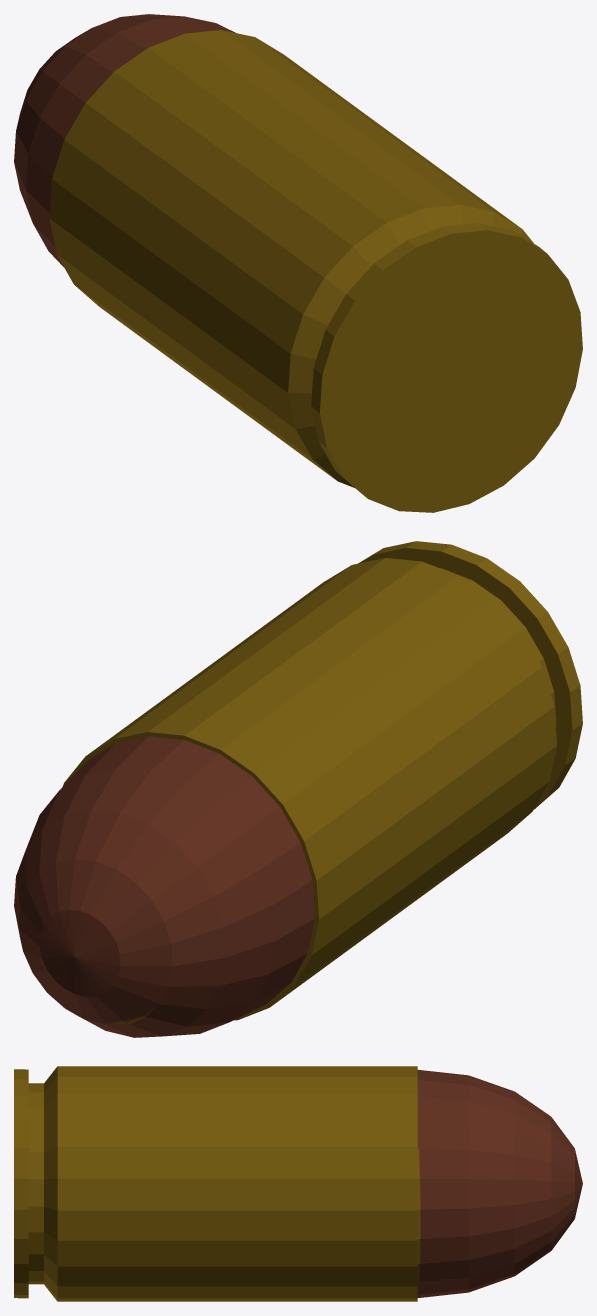
File: bullet.fbx
The picture shows the model from 3 angles, top to bottom: view 1: azimuth 30°, elevation 25°; view 2: azimuth 150°, elevation 25°; view 3: azimuth 270°, elevation 25°; orthographic projection. The views are drawn at different scales.
Parts seen in each view (by area): view 1: Sphere; view 2: Sphere; view 3: Sphere.
Part boxes in pixels (left/top/right/bottom): Sphere: left=14, top=14, right=582, bottom=512; Sphere: left=14, top=541, right=582, bottom=1037; Sphere: left=14, top=1066, right=582, bottom=1301.
Bounding box in the file's own units: 22.52 × 22.47 × 54.38.
